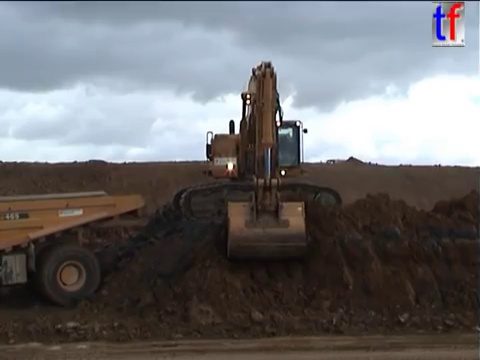excavator: (169, 58, 344, 262)
truck: (1, 187, 148, 309), (317, 157, 378, 177)
